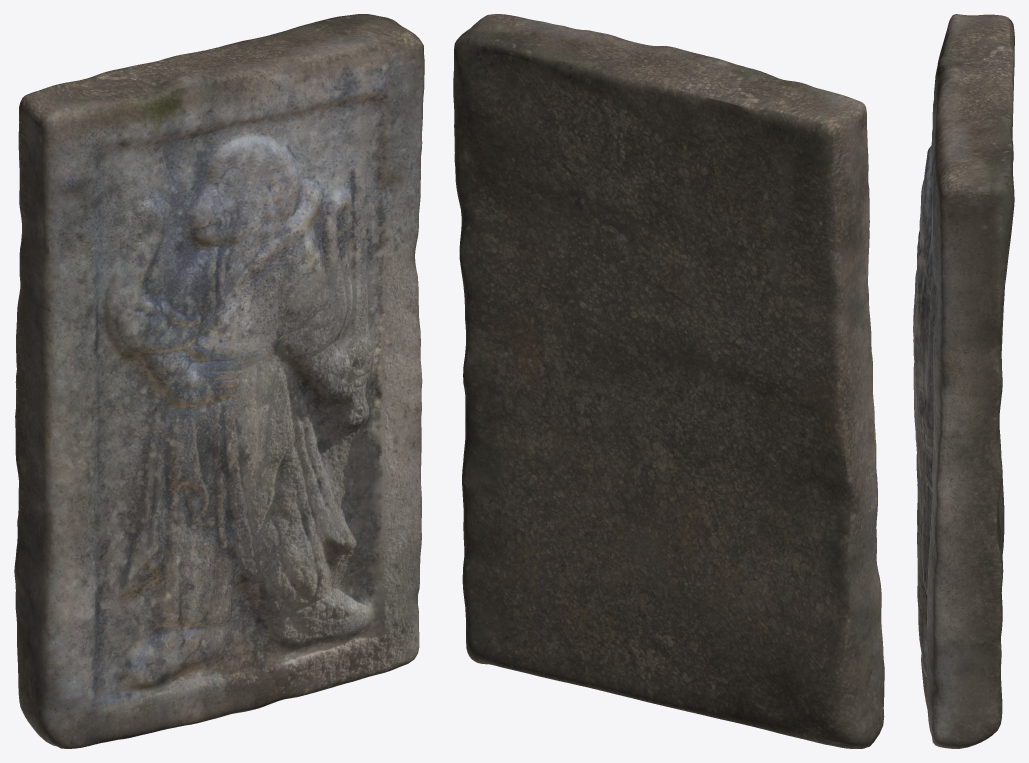
3 renders of one model, left to right at view 1: azimuth 30°, elevation 25°; view 2: azimuth 150°, elevation 25°; view 3: azimuth 270°, elevation 25°, orthographic. The views are drawn at different scales.
Visible parts, largest first — view 1: Object_2; view 2: Object_2; view 3: Object_2.
Boxes of the visible parts, x1,y1,x2,y2 form: Object_2: (14,14,424,748); Object_2: (453,14,884,748); Object_2: (913,14,1014,748).
Bounding box in the file's own units: 0.6121 × 0.9631 × 0.1518.
1 material, 1 textured.
